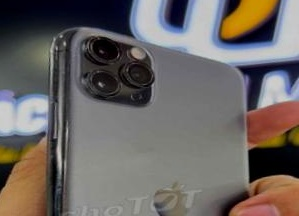scratch: (40, 162, 78, 216)
